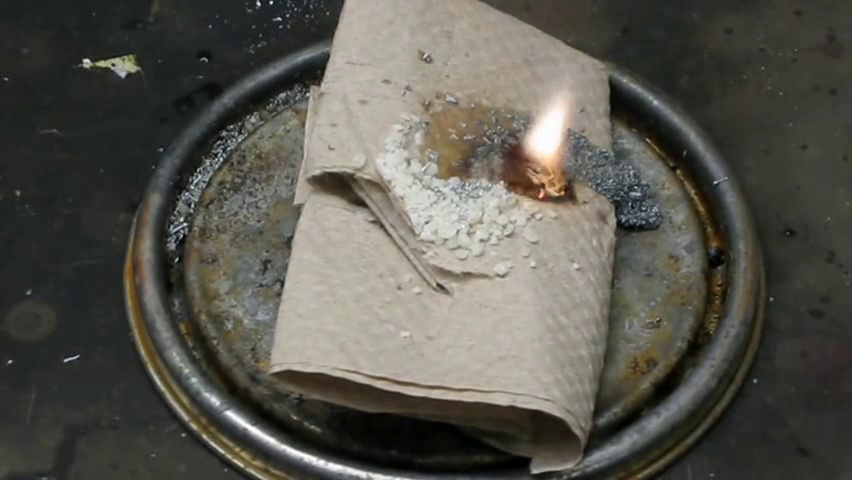fire: (517, 79, 578, 193)
